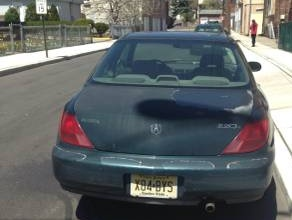acura: (48, 22, 277, 212)
